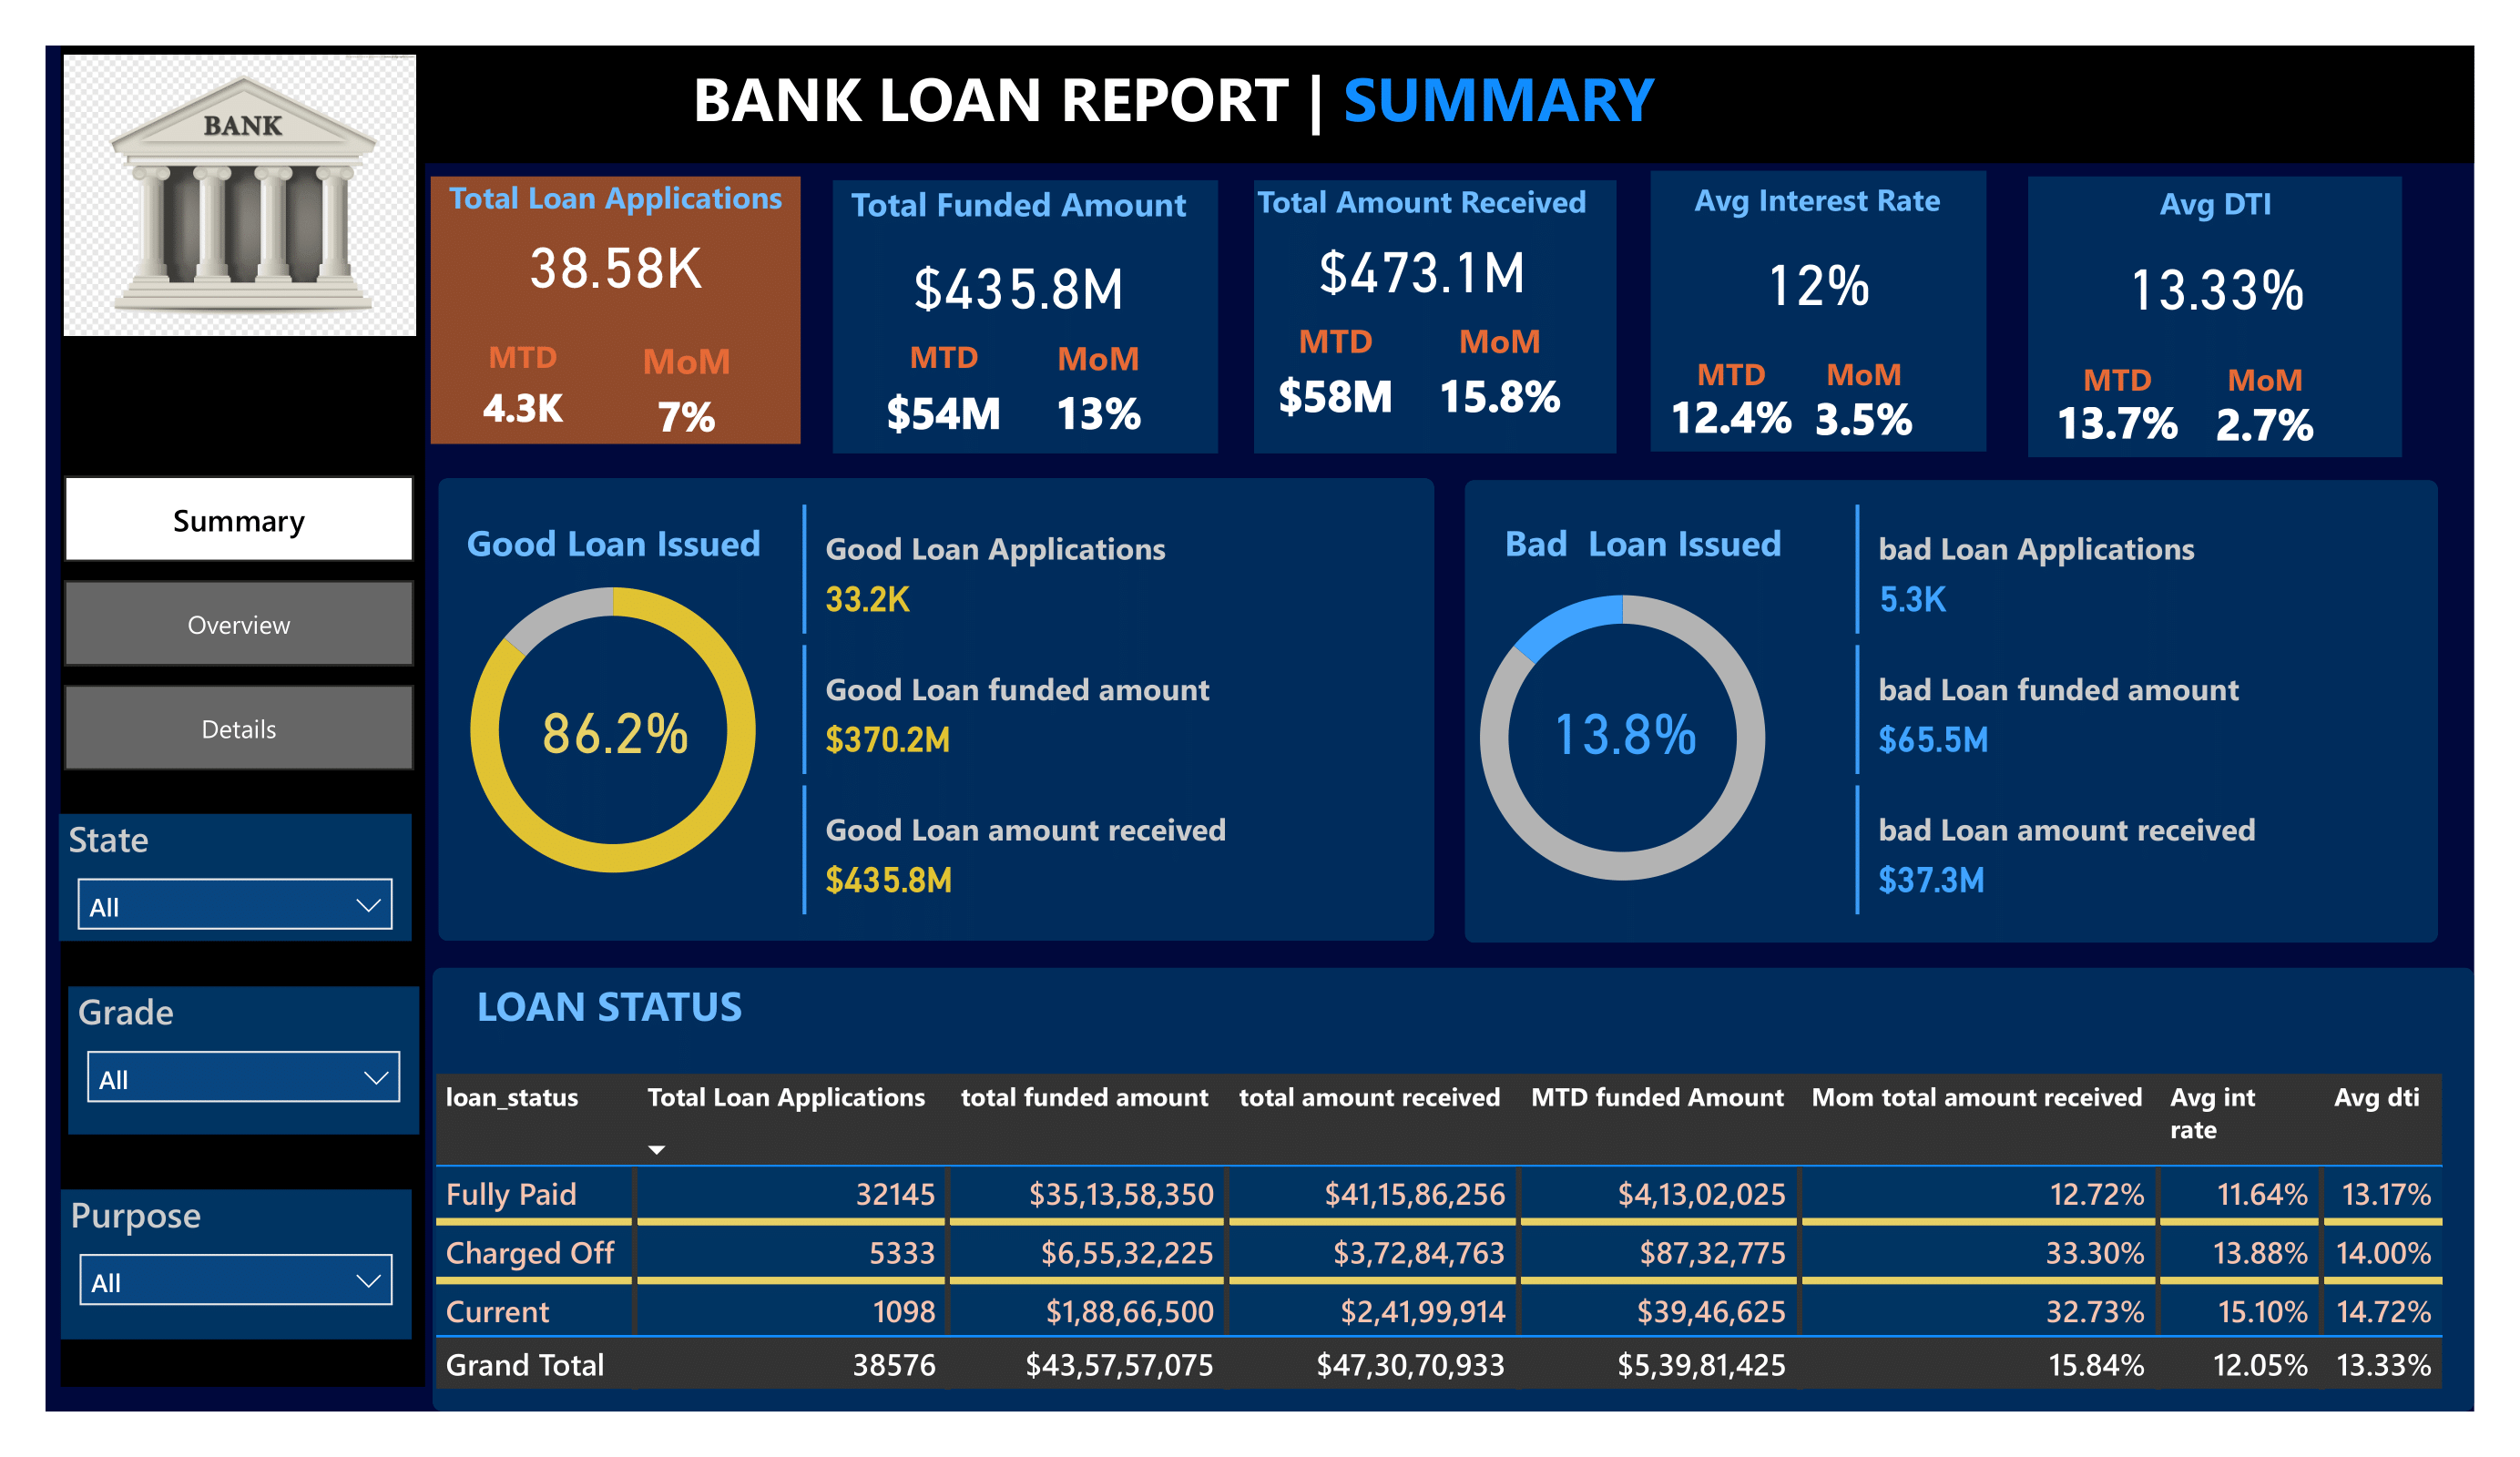

Layout of this report page (visuals, bound fields, positions):
{"tool":"powerbi","page":{"name":"Summary","canvas":[1280,720],"ordinal":0},"visuals":[{"type":"shape","box":[8.4,0,1271.6,62.2],"z":0},{"type":"shape","box":[203.3,68.9,194.9,141.1],"z":0,"group":"g1"},{"type":"shape","box":[414.9,70.6,203.3,144.5],"z":0,"group":"g2"},{"type":"shape","box":[636.6,70.6,191.5,144.5],"z":1000},{"type":"shape","box":[8.4,62.2,192,645],"z":2000},{"type":"shape","box":[846.6,65.5,176.9,147.8],"z":2000,"group":"g3"},{"type":"shape","box":[1044.8,68.9,197.5,147.8],"z":2000,"group":"g4"},{"type":"textbox","box":[336,0,562.7,62.2],"z":3000},{"type":"card","title":"Total Loan Applications","fields":{"Values":["financial_loan.Total Loan Applications"]},"box":[203.3,68.9,194.9,70.6],"z":3000,"group":"g1"},{"type":"card","title":"Total Funded Amount","fields":{"Values":["financial_loan.total funded amount"]},"box":[408.2,70.6,210,87.3],"z":3000,"group":"g2"},{"type":"group","id":"g1","title":"Group 3","box":[203.3,68.9,194.9,146.1],"z":4000},{"type":"card","title":"MTD","fields":{"Values":["financial_loan.MTD Loan Application"]},"box":[206.7,152.9,90.7,57.1],"z":4000,"group":"g1"},{"type":"card","title":"MTD","fields":{"Values":["financial_loan.MTD funded Amount"]},"box":[433.4,152.9,80.6,62.2],"z":4000,"group":"g2"},{"type":"group","id":"g2","title":"Group 4","box":[408.2,70.6,210,144.5],"z":5000},{"type":"card","title":"Total Amount Received","fields":{"Values":["financial_loan.total amount received"]},"box":[628.2,70.6,194.9,72.2],"z":5000,"group":"g5"},{"type":"card","title":"MoM","fields":{"Values":["financial_loan.MOM funded maount"]},"box":[514,151.2,82.3,62.2],"z":5000,"group":"g2"},{"type":"card","title":"MoM","fields":{"Values":["financial_loan.MOM loan application"]},"box":[297.4,152.9,82.3,62.2],"z":5000,"group":"g1"},{"type":"group","id":"g3","title":"Group 1","box":[833.1,65.5,201.6,147.8],"z":6000},{"type":"card","title":"Avg Interest Rate","fields":{"Values":["financial_loan.Avg int rate"]},"box":[833.1,69.1,201.6,87],"z":6000,"group":"g3"},{"type":"card","title":"Avg DTI","fields":{"Values":["financial_loan.Avg dti"]},"box":[1044.9,72.3,198.2,87.3],"z":6000,"group":"g4"},{"type":"group","id":"g4","title":"Group 2","box":[1044.8,68.9,198.3,147.8],"z":7000},{"type":"card","title":"MTD","fields":{"Values":["financial_loan.MTD total Amount"]},"box":[631.6,142.8,97.4,62.2],"z":7000,"group":"g5"},{"type":"card","title":"MTD","fields":{"Values":["financial_loan.MTD avg int rate"]},"box":[846.6,161.2,84.2,48.7],"z":8000,"group":"g3"},{"type":"card","title":"MTD","fields":{"Values":["financial_loan.MTD avg dti rate"]},"box":[1044.8,164.6,94,48.7],"z":8000,"group":"g4"},{"type":"shape","box":[206.6,228.5,525.8,243.6],"z":8000},{"type":"card","title":"MoM","fields":{"Values":["financial_loan.Mom total amount received"]},"box":[725.6,142.8,82.3,62.2],"z":9000,"group":"g5"},{"type":"shape","box":[748.5,228.8,513,243.9],"z":9000},{"type":"card","title":"MoM","fields":{"Values":["financial_loan.MOM avg int rate"]},"box":[919,161.2,79.2,50.4],"z":10000,"group":"g3"},{"type":"card","title":"MoM","fields":{"Values":["financial_loan.MoM dti"]},"box":[1125.7,164.6,88.4,50.4],"z":10000,"group":"g4"},{"type":"donutChart","fields":{"Category":["financial_loan.good vs bad loan"],"Y":["financial_loan.Total Loan Applications"]},"box":[199.9,260.4,198.2,201.6],"z":10000},{"type":"group","id":"g5","title":"Group 5","box":[628.2,70.6,194.9,134.4],"z":11000},{"type":"card","fields":{"Values":["financial_loan.bad loan %"]},"box":[763.6,328,136.2,65.6],"z":12000},{"type":"card","fields":{"Values":["financial_loan.good loan %"]},"box":[233.5,314.1,134.4,92.4],"z":13000},{"type":"donutChart","fields":{"Category":["financial_loan.good vs bad loan"],"Y":["financial_loan.Total Loan Applications"]},"box":[731.7,264.1,198.5,201.8],"z":14000},{"type":"textbox","box":[763.6,227.1,220.3,97.6],"z":15000},{"type":"cardVisual","fields":{"Data":["financial_loan.Good Loan Applications","financial_loan.Good Loan funded amount","financial_loan.Good Loan amount received"]},"box":[393.6,237.2,331.4,228.8],"z":16000},{"type":"shape","box":[203.5,486.1,1076.5,233.8],"z":17000},{"type":"textbox","box":[216.9,227,186.7,97.6],"z":18000},{"type":"cardVisual","fields":{"Data":["financial_loan.bad Loan Applications","financial_loan.bad Loan funded amount","financial_loan.bad Loan amount received"]},"box":[948.6,237.2,312.9,228.8],"z":19000},{"type":"tableEx","fields":{"Values":["financial_loan.loan_status","financial_loan.Total Loan Applications","financial_loan.total funded amount","financial_loan.total amount received","financial_loan.MTD funded Amount","financial_loan.Mom total amount received","financial_loan.Avg int rate","financial_loan.Avg dti"]},"box":[200.2,536.6,1078.2,183.3],"z":20000},{"type":"textbox","box":[222,486.1,270.8,50.5],"z":21000},{"type":"slicer","title":"State","fields":{"Values":["financial_loan.address_state"]},"box":[6.7,404.8,186.5,67.2],"z":22000},{"type":"slicer","title":"Grade","fields":{"Values":["financial_loan.grade"]},"box":[11.8,495.5,184.8,79],"z":23000},{"type":"slicer","title":"Purpose","fields":{"Values":["financial_loan.purpose"]},"box":[8.4,603,184.8,79],"z":24000},{"type":"pageNavigator","box":[10.1,226.8,184.8,157.9],"z":25000},{"type":"image","box":[5,0,194.9,157.9],"z":26000}]}

Visuals, with their boxes on the page's 1280x720 design canvas (x1, y1, x2, y2). These are canvas units, not pixel positions in the 2520x1457 screenshot, which may show the page scaled, cropped or inside an application window:
shape: l=8, t=0, r=1280, b=62
shape: l=203, t=69, r=398, b=210
shape: l=415, t=71, r=618, b=215
shape: l=637, t=71, r=828, b=215
shape: l=8, t=62, r=200, b=707
shape: l=847, t=66, r=1024, b=213
shape: l=1045, t=69, r=1242, b=217
textbox: l=336, t=0, r=899, b=62
"Total Loan Applications" card: l=203, t=69, r=398, b=140
"Total Funded Amount" card: l=408, t=71, r=618, b=158
"Group 3" group: l=203, t=69, r=398, b=215
"MTD" card: l=207, t=153, r=297, b=210
"MTD" card: l=433, t=153, r=514, b=215
"Group 4" group: l=408, t=71, r=618, b=215
"Total Amount Received" card: l=628, t=71, r=823, b=143
"MoM" card: l=514, t=151, r=596, b=213
"MoM" card: l=297, t=153, r=380, b=215
"Group 1" group: l=833, t=66, r=1035, b=213
"Avg Interest Rate" card: l=833, t=69, r=1035, b=156
"Avg DTI" card: l=1045, t=72, r=1243, b=160
"Group 2" group: l=1045, t=69, r=1243, b=217
"MTD" card: l=632, t=143, r=729, b=205
"MTD" card: l=847, t=161, r=931, b=210
"MTD" card: l=1045, t=165, r=1139, b=213
shape: l=207, t=228, r=732, b=472
"MoM" card: l=726, t=143, r=808, b=205
shape: l=748, t=229, r=1262, b=473
"MoM" card: l=919, t=161, r=998, b=212
"MoM" card: l=1126, t=165, r=1214, b=215
donutChart - financial_loan.good vs bad loan x financial_loan.Total Loan Applications: l=200, t=260, r=398, b=462
"Group 5" group: l=628, t=71, r=823, b=205
card - financial_loan.bad loan %: l=764, t=328, r=900, b=394
card - financial_loan.good loan %: l=234, t=314, r=368, b=406
donutChart - financial_loan.good vs bad loan x financial_loan.Total Loan Applications: l=732, t=264, r=930, b=466
textbox: l=764, t=227, r=984, b=325
cardVisual - financial_loan.Good Loan Applications x financial_loan.Good Loan funded amount: l=394, t=237, r=725, b=466
shape: l=204, t=486, r=1280, b=720
textbox: l=217, t=227, r=404, b=325
cardVisual - financial_loan.bad Loan Applications x financial_loan.bad Loan funded amount: l=949, t=237, r=1262, b=466
tableEx - financial_loan.loan_status x financial_loan.Total Loan Applications: l=200, t=537, r=1278, b=720
textbox: l=222, t=486, r=493, b=537
"State" slicer: l=7, t=405, r=193, b=472
"Grade" slicer: l=12, t=496, r=197, b=574
"Purpose" slicer: l=8, t=603, r=193, b=682
pageNavigator: l=10, t=227, r=195, b=385
image: l=5, t=0, r=200, b=158
